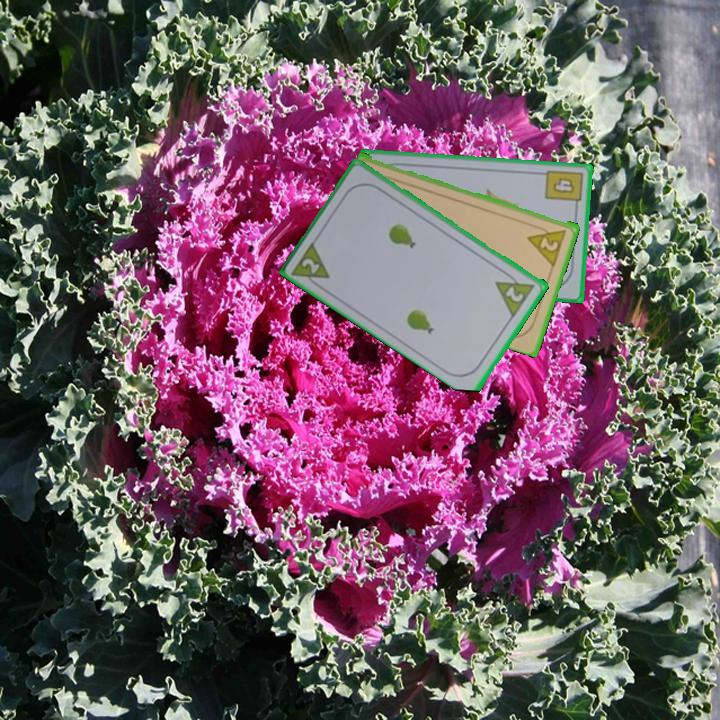2p: (289, 237, 333, 293), (524, 222, 569, 268), (502, 283, 527, 305)
4b: (542, 166, 585, 212)
